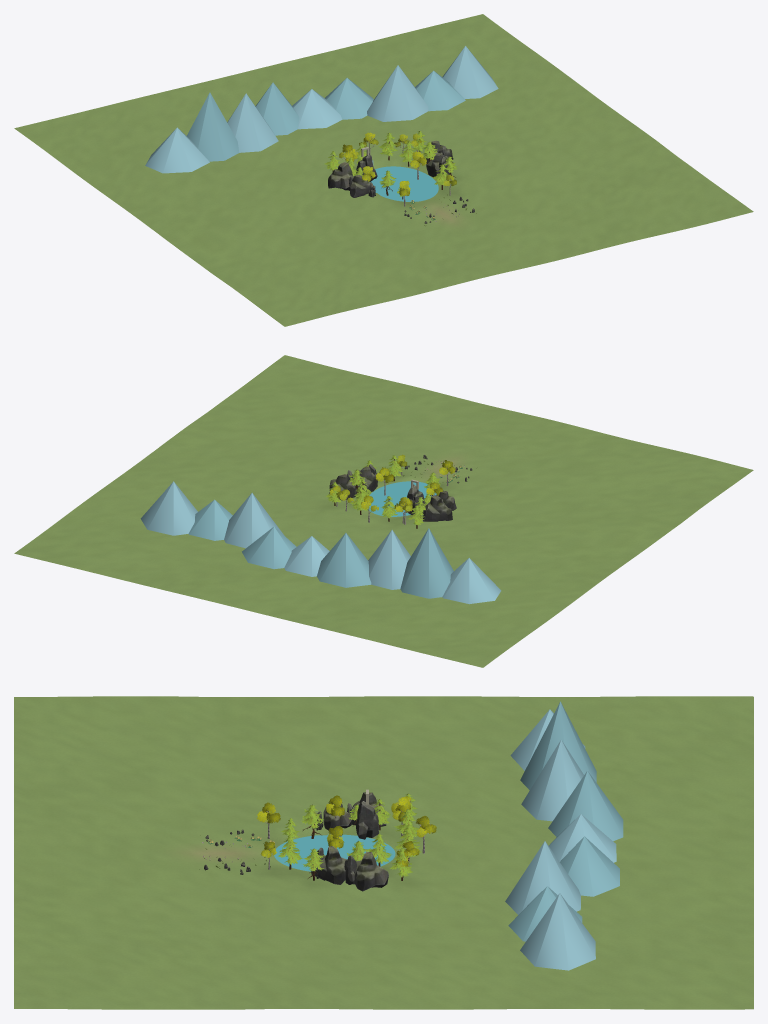
Rendered from valley.glb.
3 renders of one model, top to bottom at view 1: azimuth 30°, elevation 25°; view 2: azimuth 150°, elevation 25°; view 3: azimuth 270°, elevation 25°, orthographic. The views are drawn at different scales.
Visible parts, largest first — view 1: Shore, Distant ridge (×2), Rock_4, PineTree_5, Lake, BirchTree_4; view 2: Shore, Distant ridge (×2), Rock_4, PineTree_5, BirchTree_4, Lake; view 3: Shore, Distant ridge (×2), Rock_4, PineTree_5, BirchTree_4, Lake.
Boxes of the visible parts, <box> form: Shore: <box>14,14,753,326</box>; Distant ridge (×2): <box>145,46,498,173</box>; Rock_4: <box>328,140,474,223</box>; PineTree_5: <box>324,131,457,199</box>; Lake: <box>369,166,438,201</box>; BirchTree_4: <box>339,132,456,206</box>; Shore: <box>14,355,753,667</box>; Distant ridge (×2): <box>140,481,501,604</box>; Rock_4: <box>329,454,472,521</box>; PineTree_5: <box>325,455,440,528</box>; BirchTree_4: <box>329,454,455,524</box>; Lake: <box>367,481,436,516</box>; Shore: <box>14,696,753,1009</box>; Distant ridge (×2): <box>505,701,623,970</box>; Rock_4: <box>204,792,388,891</box>; PineTree_5: <box>278,793,421,880</box>; BirchTree_4: <box>257,795,436,879</box>; Lake: <box>274,834,395,871</box>.
Size of the model in its own units: 90 by 10.93 by 90.
Materials: 14 (8 with a texture image).
